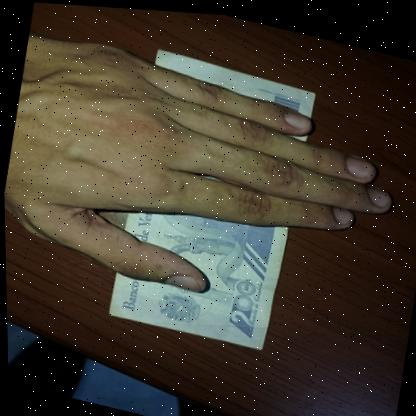ten-back-vef: (102, 40, 321, 355)
